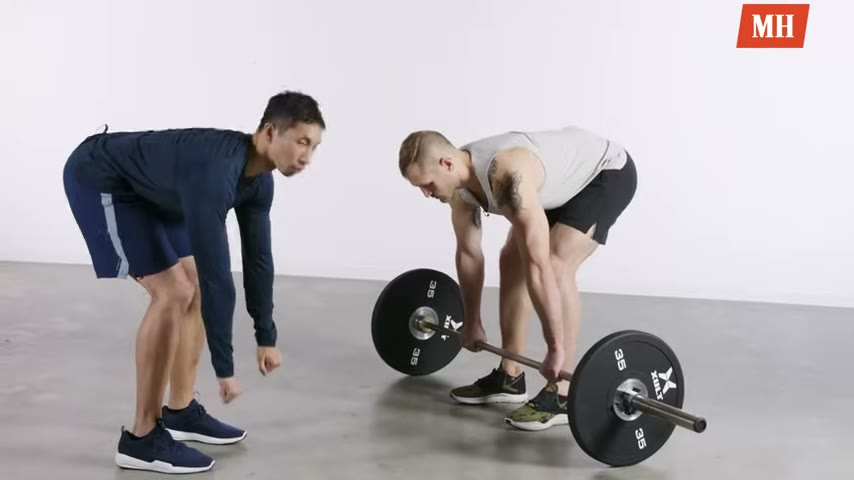barbell_plate_side: (365, 267, 456, 466), (627, 315, 710, 471)
